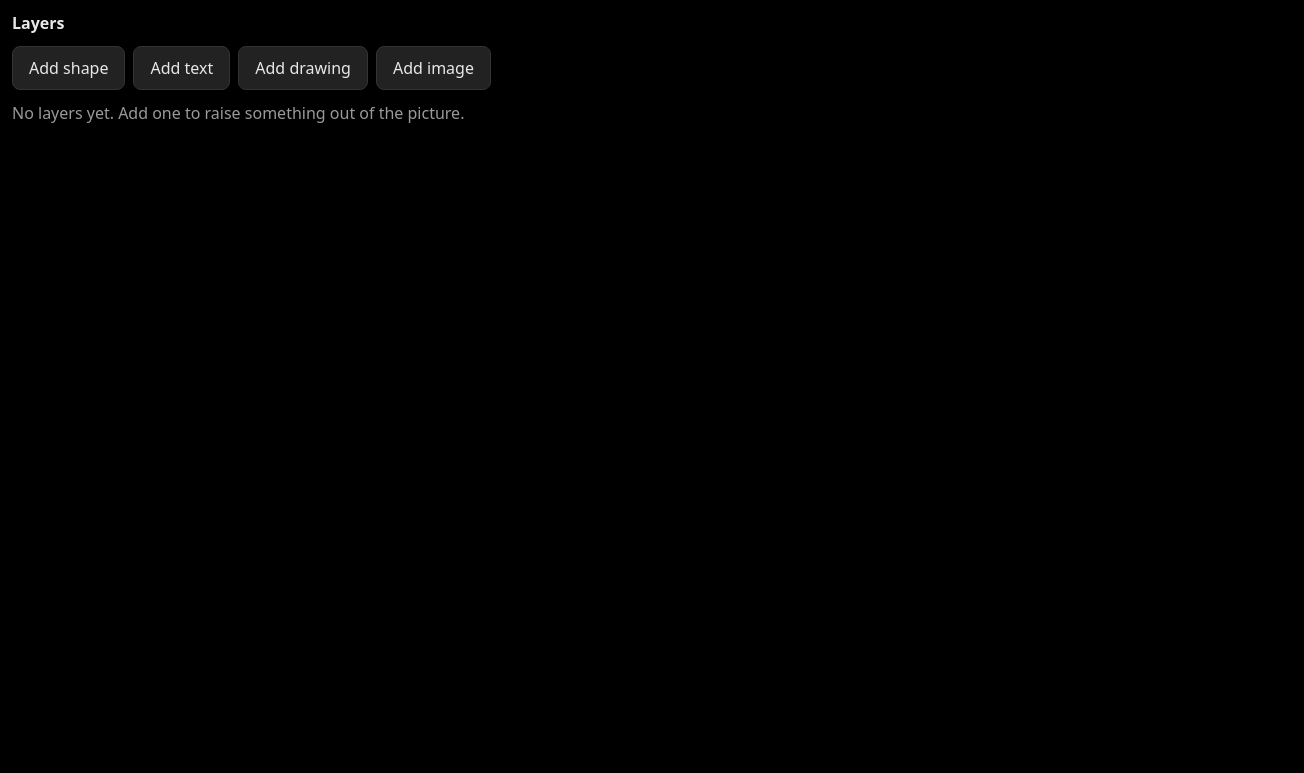
Test: a new image layer asks for an image
Click the button "Add image" at (433, 68), box [376,46,491,90]
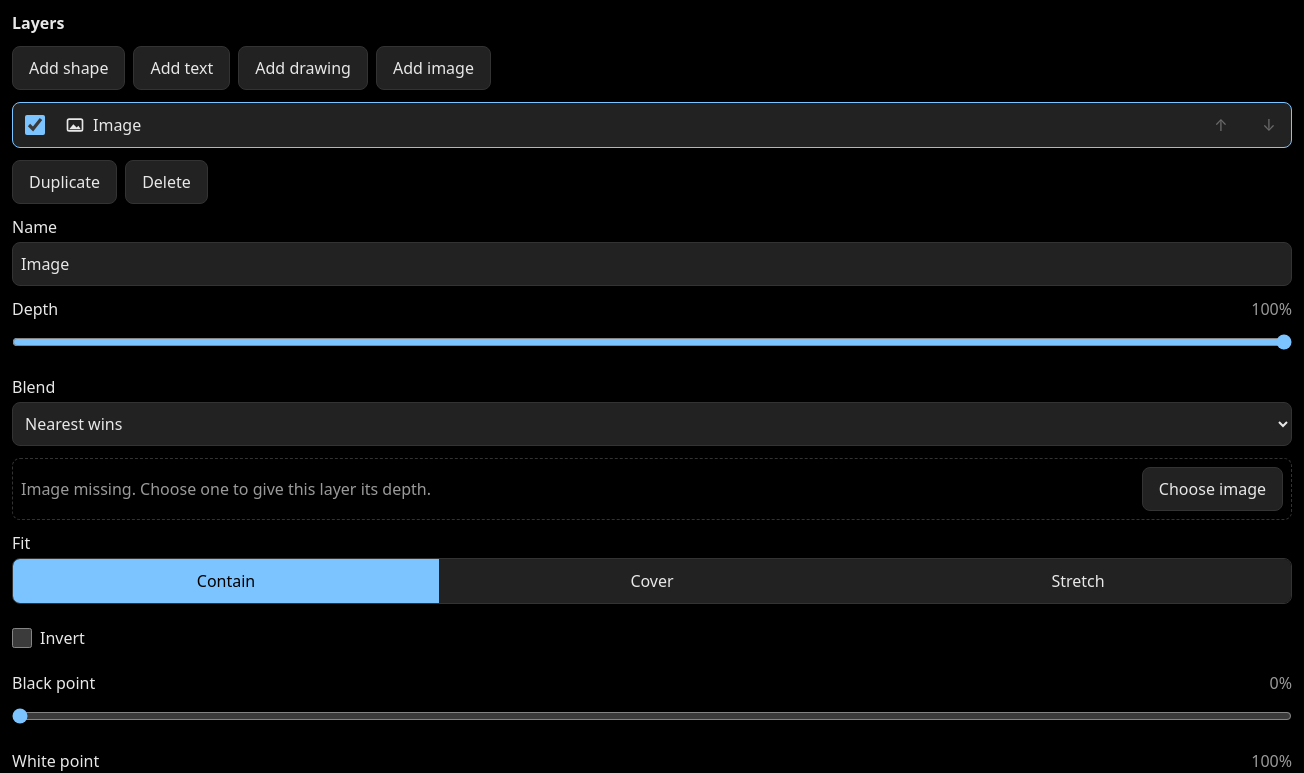
Expected: the text "Image missing. Choose one to give this layer its depth." is shown, [21,478,431,500]
Expected: the button "Choose image" is shown, [1142,467,1283,511]
